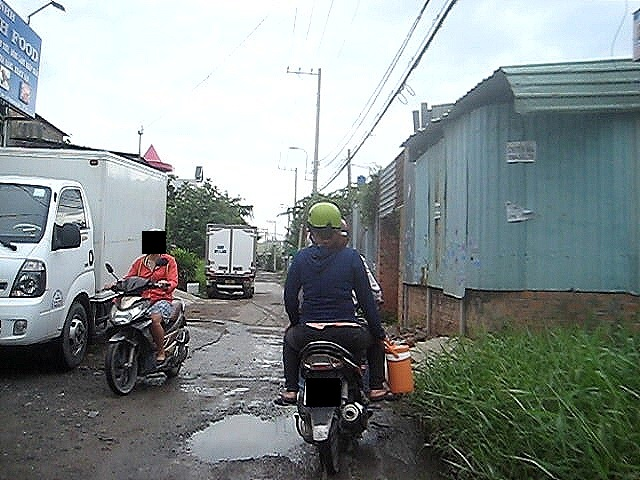hole: (177, 407, 303, 467), (184, 371, 281, 380), (235, 384, 249, 395)
